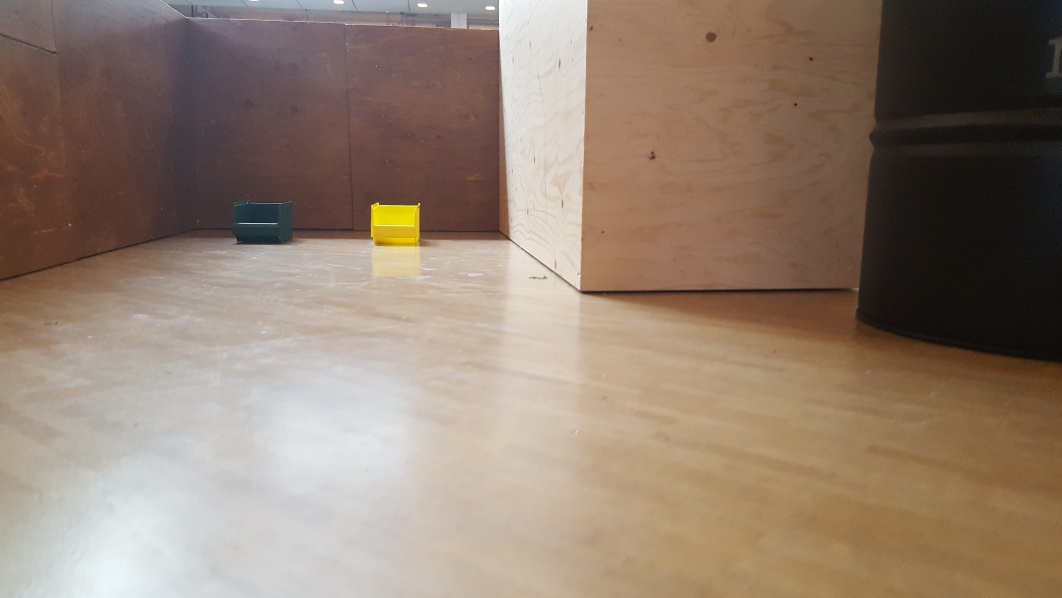tray: (230, 197, 295, 247), (366, 200, 423, 242)
